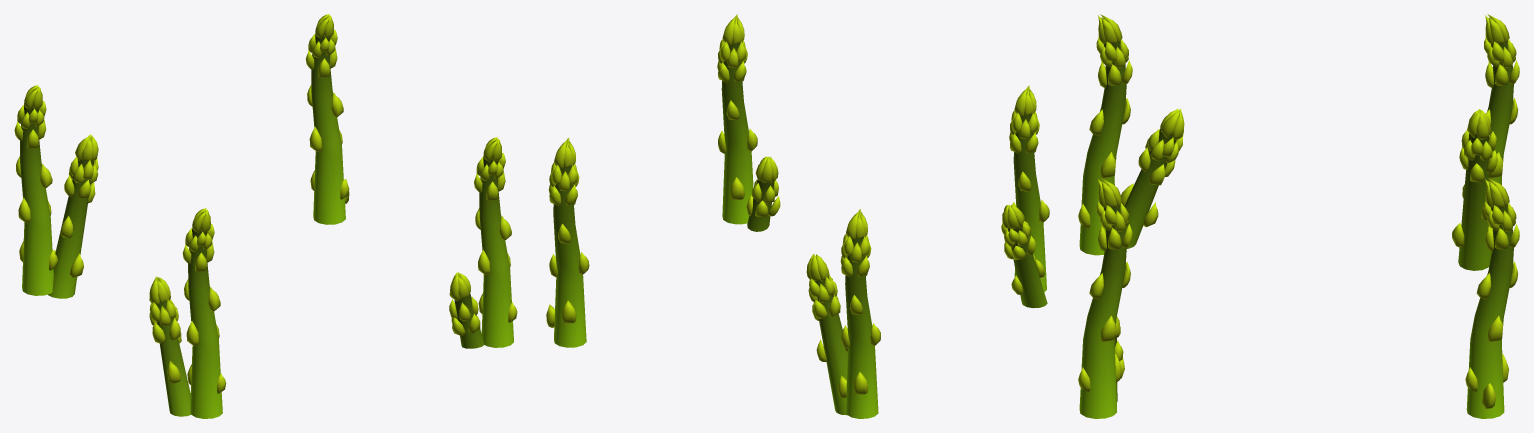
Rendered from Farm_Crop_Asparagus_Step_02.fbx.
3 views of the same model, side by side, from view 1: azimuth 30°, elevation 25°; view 2: azimuth 150°, elevation 25°; view 3: azimuth 270°, elevation 25° (orthographic). The views are drawn at different scales.
Visible parts, largest first — view 1: Farm_Crop_Asparagus_Step_02; view 2: Farm_Crop_Asparagus_Step_02; view 3: Farm_Crop_Asparagus_Step_02.
Part boxes in pixels (x1,y1,x2,y2): Farm_Crop_Asparagus_Step_02: (14,14,517,418); Farm_Crop_Asparagus_Step_02: (546,14,1049,418); Farm_Crop_Asparagus_Step_02: (1078,14,1519,418).
Bounding box in the file's own units: 117 × 68.61 × 114.
